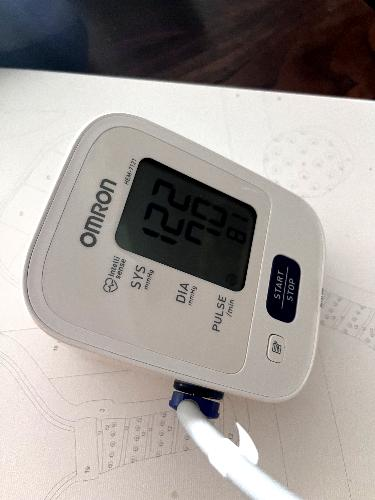bpm: (105, 150, 284, 298)
